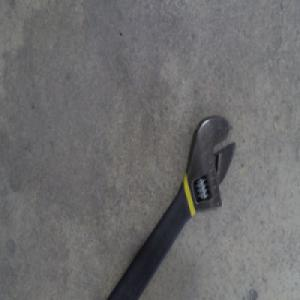AdjustableWrench: (106, 115, 237, 299)
